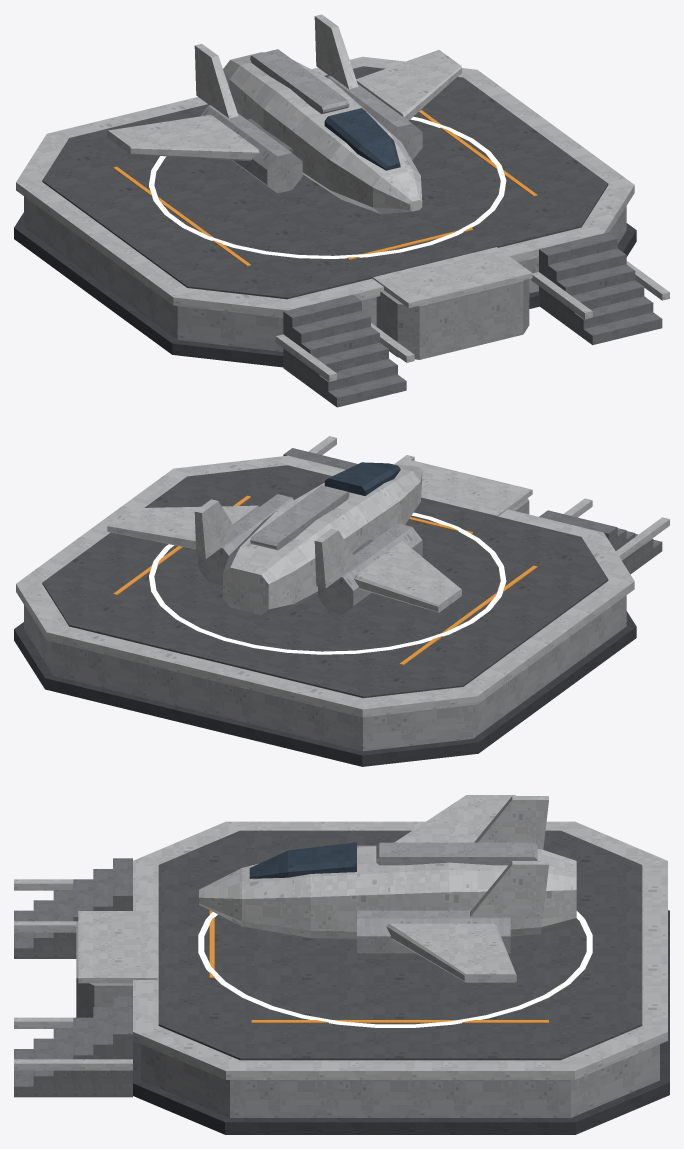
File: hub_lod2.glb
The picture shows the model from 3 angles, top to bottom: view 1: azimuth 30°, elevation 25°; view 2: azimuth 150°, elevation 25°; view 3: azimuth 270°, elevation 25°; orthographic projection. The views are drawn at different scales.
Visible parts, largest first — view 1: hub_base_body.002, hub_shuttle_body.002, hub_base_glow.002, hub_base_trim.002; view 2: hub_base_body.002, hub_shuttle_body.002, hub_base_glow.002, hub_base_trim.002; view 3: hub_base_body.002, hub_shuttle_body.002, hub_base_glow.002, hub_base_trim.002.
Boxes of the visible parts, x1,y1,x2,y2 form: hub_base_body.002: (14, 56, 669, 407); hub_shuttle_body.002: (107, 14, 461, 214); hub_base_glow.002: (149, 116, 506, 258); hub_base_trim.002: (113, 110, 537, 266); hub_base_body.002: (14, 436, 669, 766); hub_shuttle_body.002: (107, 462, 461, 615); hub_base_glow.002: (149, 512, 506, 654); hub_base_trim.002: (113, 495, 537, 665); hub_base_body.002: (14, 821, 669, 1134); hub_shuttle_body.002: (199, 795, 576, 982); hub_base_glow.002: (198, 911, 592, 1027); hub_base_trim.002: (209, 865, 548, 1022).
Size of the model in its own units: 6 by 1.99 by 6.62.
3 materials, 1 textured.
